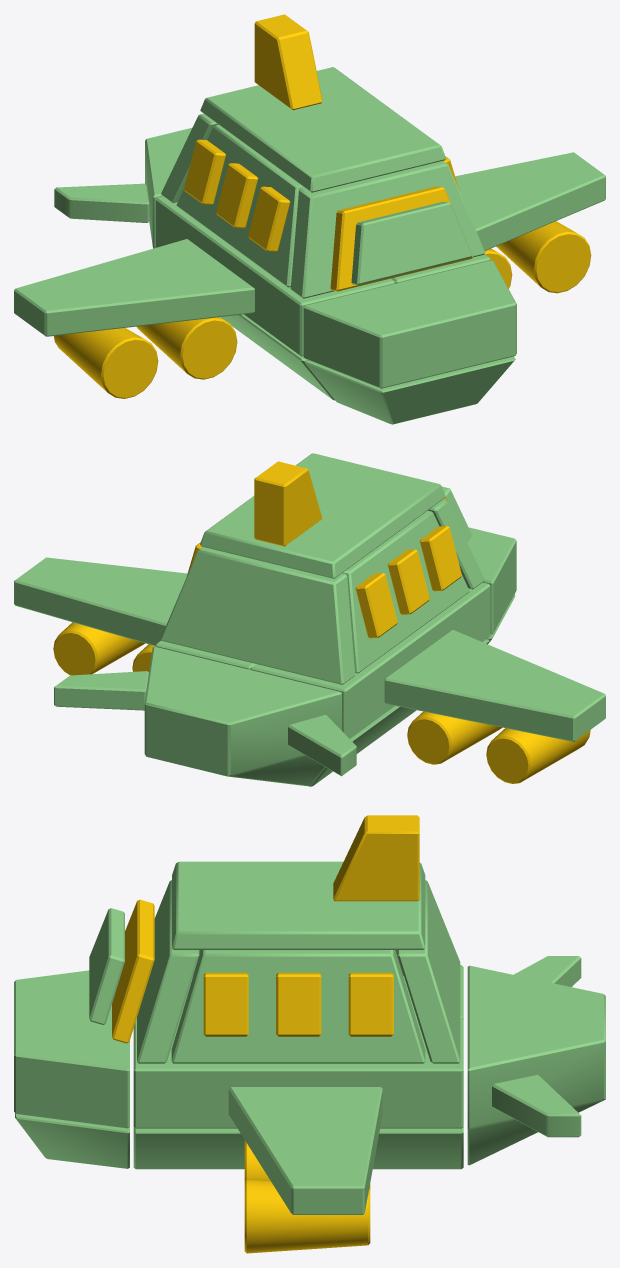
The model's file is level_201.fbx.
The picture shows the model from 3 angles, top to bottom: view 1: azimuth 30°, elevation 25°; view 2: azimuth 150°, elevation 25°; view 3: azimuth 270°, elevation 25°; orthographic projection. The views are drawn at different scales.
Visible parts, largest first — view 1: Cube_L2_4, Cube_L1_4, Cube_L3_1, Cube_L3_6, Cube_L1_8, Cube_L1_5, Cube_L2, Cube_L2_3, Cube_L1_3, Cube_L1_7, Cube_L3, Cube_L3_7 (+10 smaller); view 2: Cube_L2_2, Cube_L1_6, Cube_L3_1, Cube_L1_4, Cube_L3_6, Cube_L2, Cube_L1_3, Cube_L1_7, Cube_L3, Cube_L3_4, Cube_L3_2, Cube_L3_7 (+9 smaller); view 3: Cube_L1_4, Cube_L2_2, Cube_L1_10, Cube_L2_6, Cube_L3_6, Cube_L2_4, Cube_L2_5, Cube_L1_6, Cube_L1_7, Cube_L3_7, Cube_L1_8, Cube_L2_3 (+7 smaller).
Boxes of the visible parts, bbox=[...] form: Cube_L2_4: bbox=[303, 260, 516, 388]; Cube_L1_4: bbox=[200, 67, 445, 192]; Cube_L3_1: bbox=[14, 239, 254, 336]; Cube_L3_6: bbox=[455, 152, 605, 250]; Cube_L1_8: bbox=[290, 161, 485, 298]; Cube_L1_5: bbox=[351, 201, 472, 285]; Cube_L2: bbox=[155, 196, 395, 356]; Cube_L2_3: bbox=[305, 356, 515, 424]; Cube_L1_3: bbox=[176, 124, 303, 287]; Cube_L1_7: bbox=[254, 14, 322, 110]; Cube_L3: bbox=[54, 328, 158, 398]; Cube_L3_7: bbox=[496, 221, 591, 293]; Cube_L2_2: bbox=[144, 646, 341, 785]; Cube_L1_6: bbox=[160, 547, 355, 684]; Cube_L3_1: bbox=[384, 630, 605, 741]; Cube_L1_4: bbox=[200, 453, 445, 578]; Cube_L3_6: bbox=[14, 557, 187, 645]; Cube_L2: bbox=[251, 582, 490, 738]; Cube_L1_3: bbox=[342, 510, 469, 673]; Cube_L1_7: bbox=[254, 461, 322, 546]; Cube_L3: bbox=[486, 728, 590, 783]; Cube_L3_4: bbox=[54, 671, 148, 710]; Cube_L3_2: bbox=[407, 711, 502, 764]; Cube_L3_7: bbox=[53, 622, 145, 675]; Cube_L1_4: bbox=[172, 861, 425, 949]; Cube_L2_2: bbox=[467, 965, 605, 1165]; Cube_L1_10: bbox=[171, 950, 425, 1063]; Cube_L2_6: bbox=[133, 1017, 463, 1128]; Cube_L3_6: bbox=[228, 1087, 382, 1214]; Cube_L2_4: bbox=[14, 970, 129, 1128]; Cube_L2_5: bbox=[133, 1127, 463, 1169]; Cube_L1_6: bbox=[397, 880, 460, 1063]; Cube_L1_7: bbox=[333, 815, 419, 901]; Cube_L3_7: bbox=[244, 1179, 370, 1253]; Cube_L1_8: bbox=[137, 880, 199, 1063]; Cube_L2_3: bbox=[15, 1113, 129, 1168].
Bounding box in the file's own units: 25.19 × 11.87 × 20.35.
